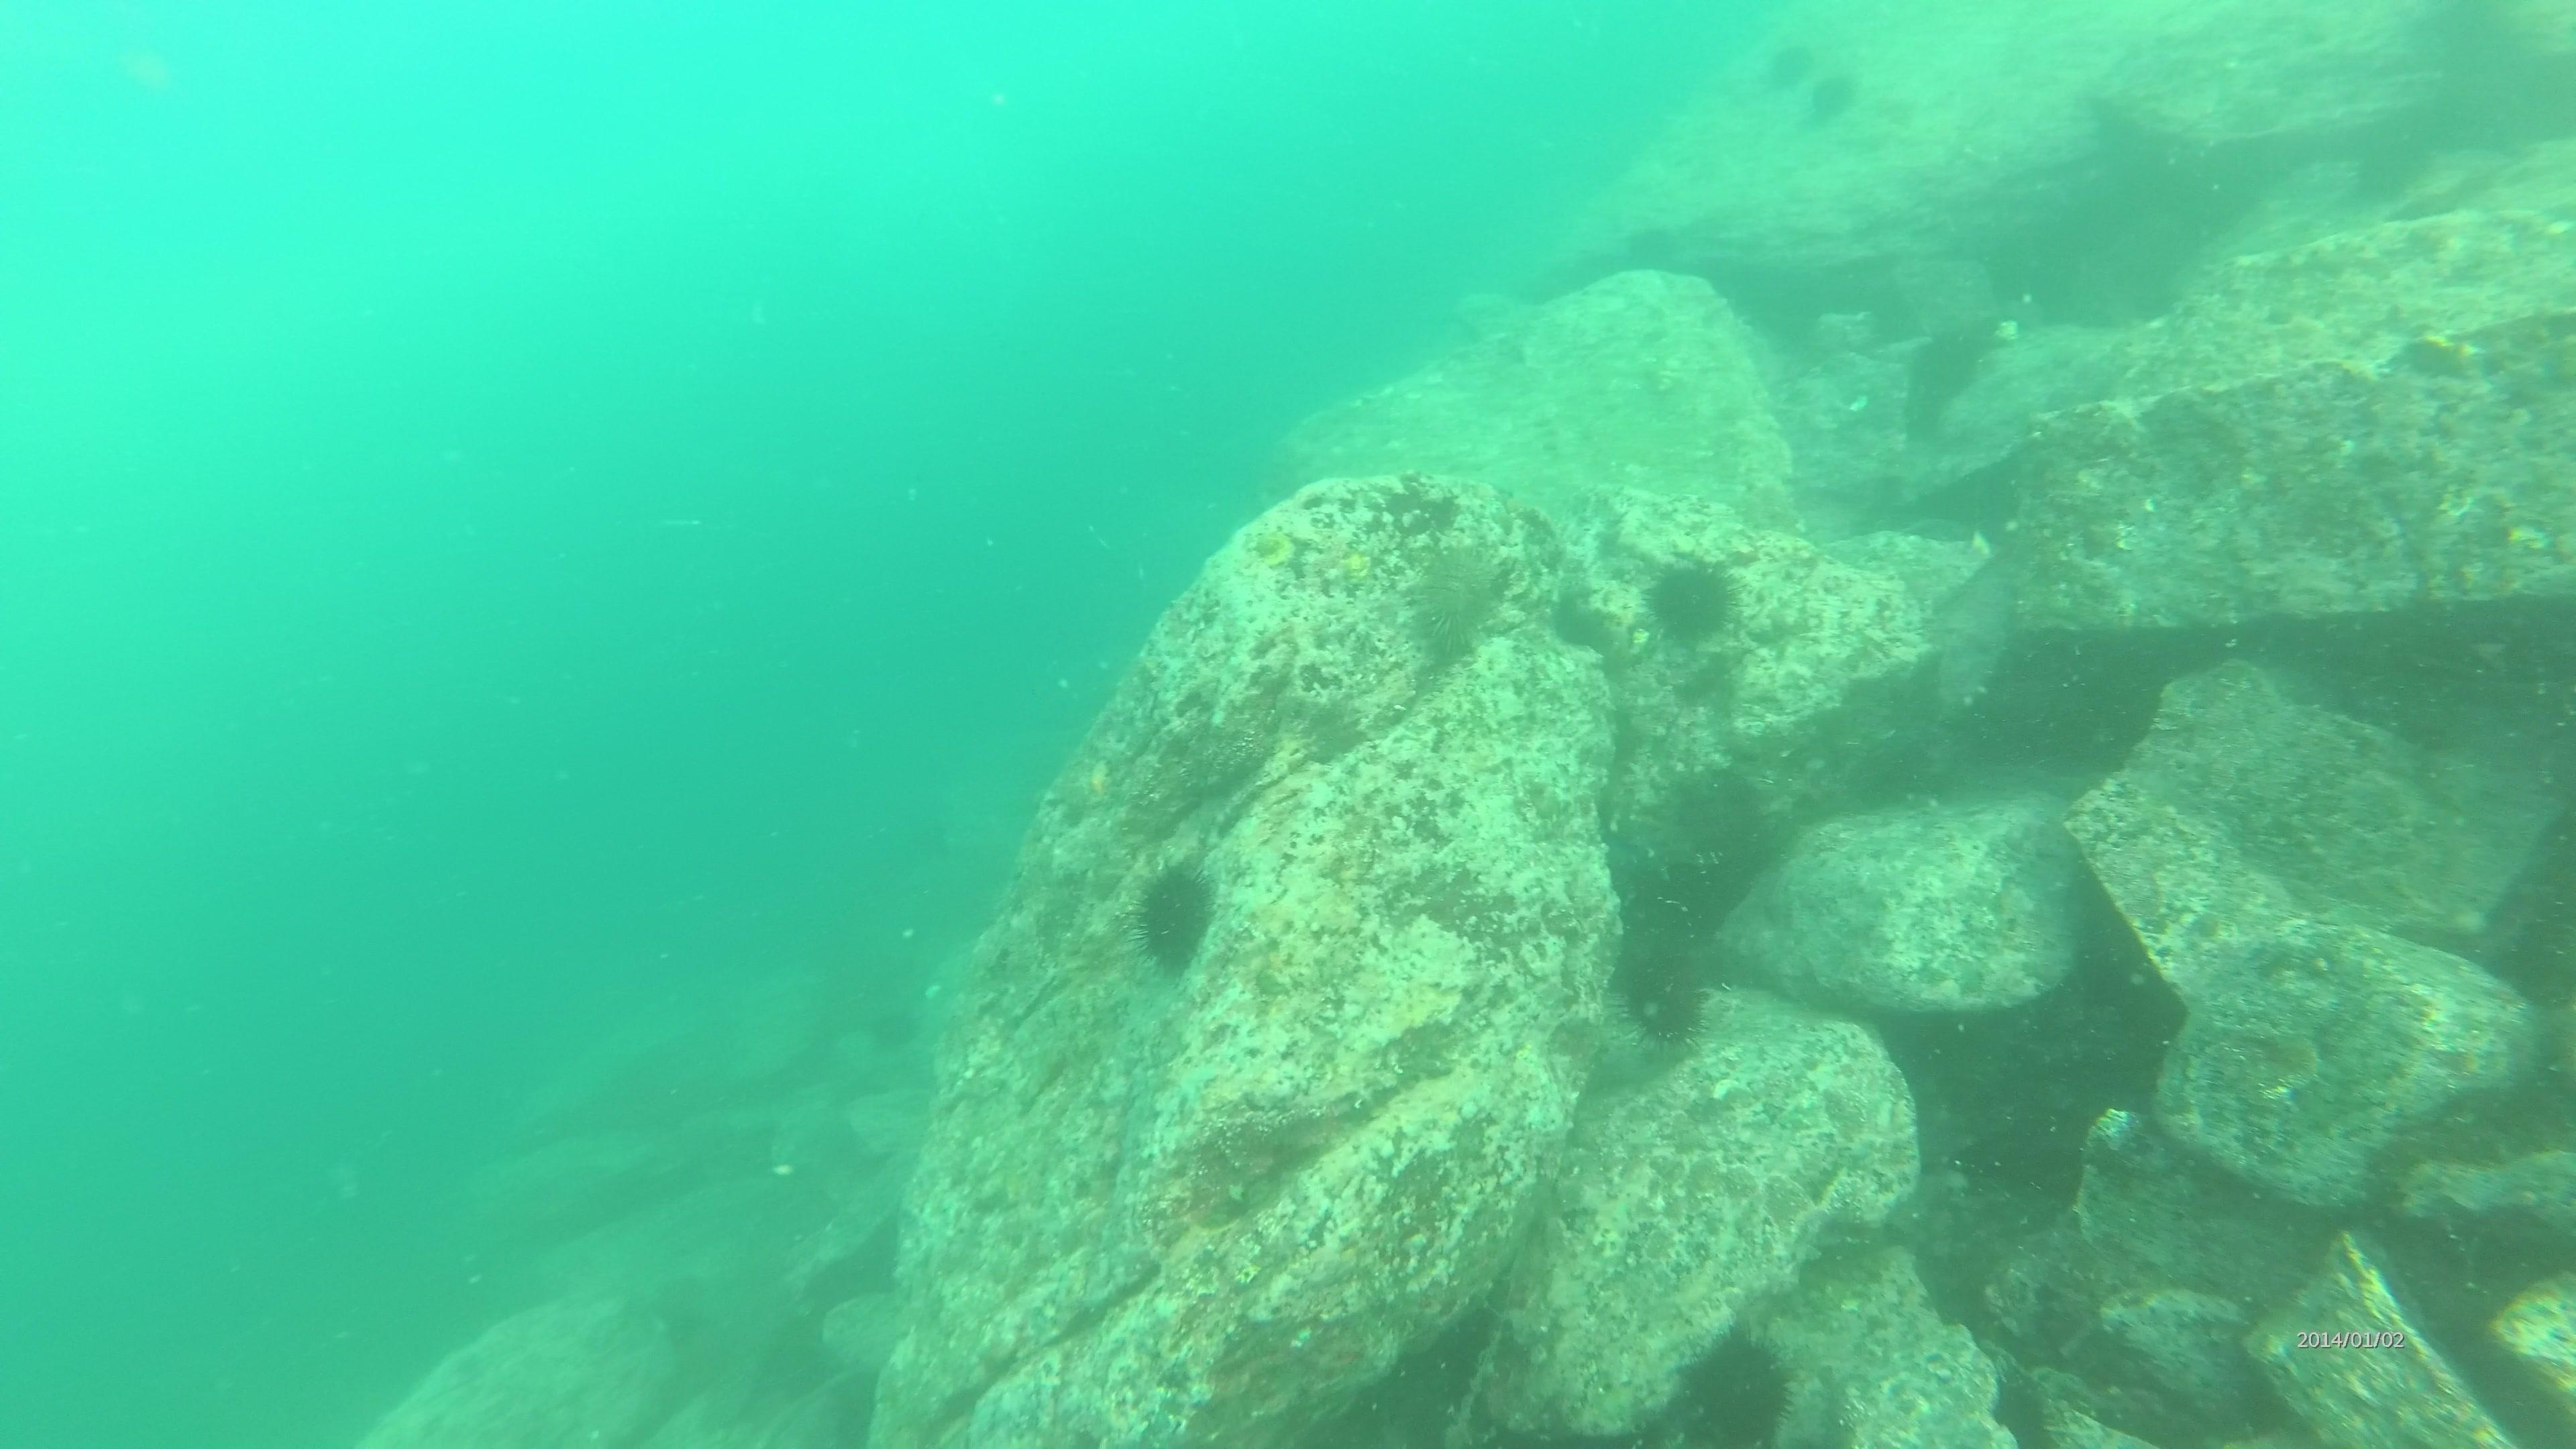echinus: (1651, 759, 1783, 901), (1665, 1325, 1801, 1449), (1396, 531, 1516, 669), (1125, 855, 1226, 978), (1612, 941, 1716, 1053), (1638, 550, 1744, 651), (1798, 64, 1863, 131), (1766, 41, 1815, 87), (1628, 221, 1674, 271)
